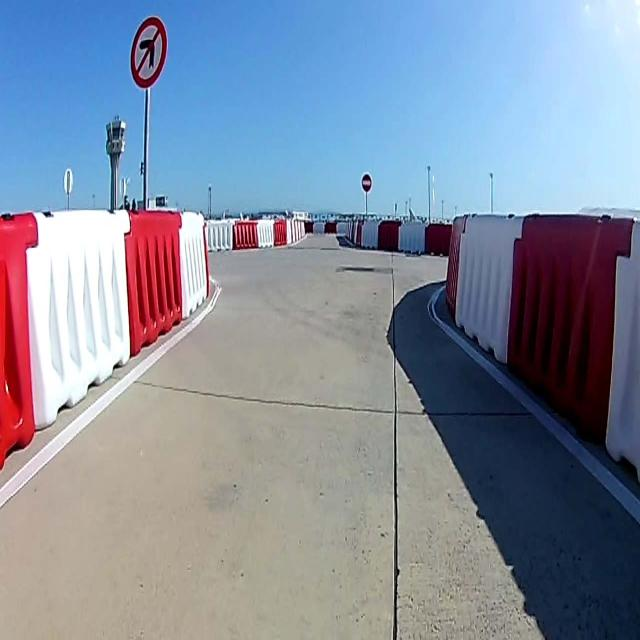girisyok: (361, 172, 374, 191)
soladonulmez: (131, 15, 163, 84)
